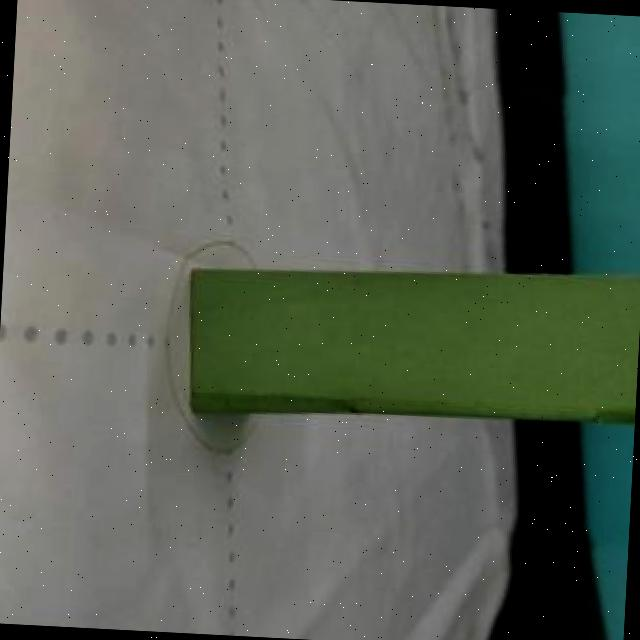greenbox: (181, 248, 640, 437)
